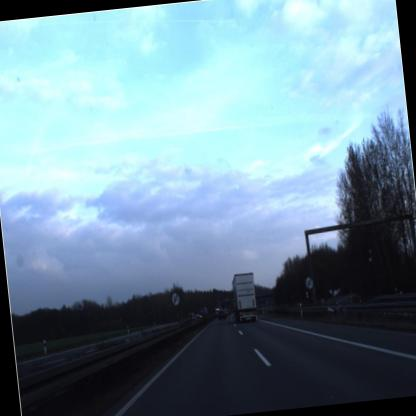other: (300, 273, 316, 292), (167, 289, 181, 308)
